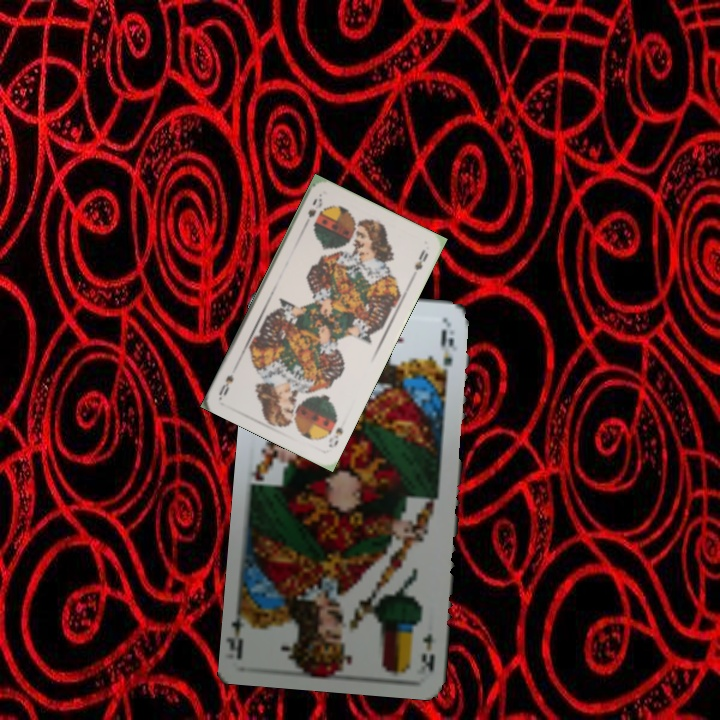EK: (418, 629, 438, 674)
SO: (304, 194, 325, 220), (325, 423, 345, 450)
